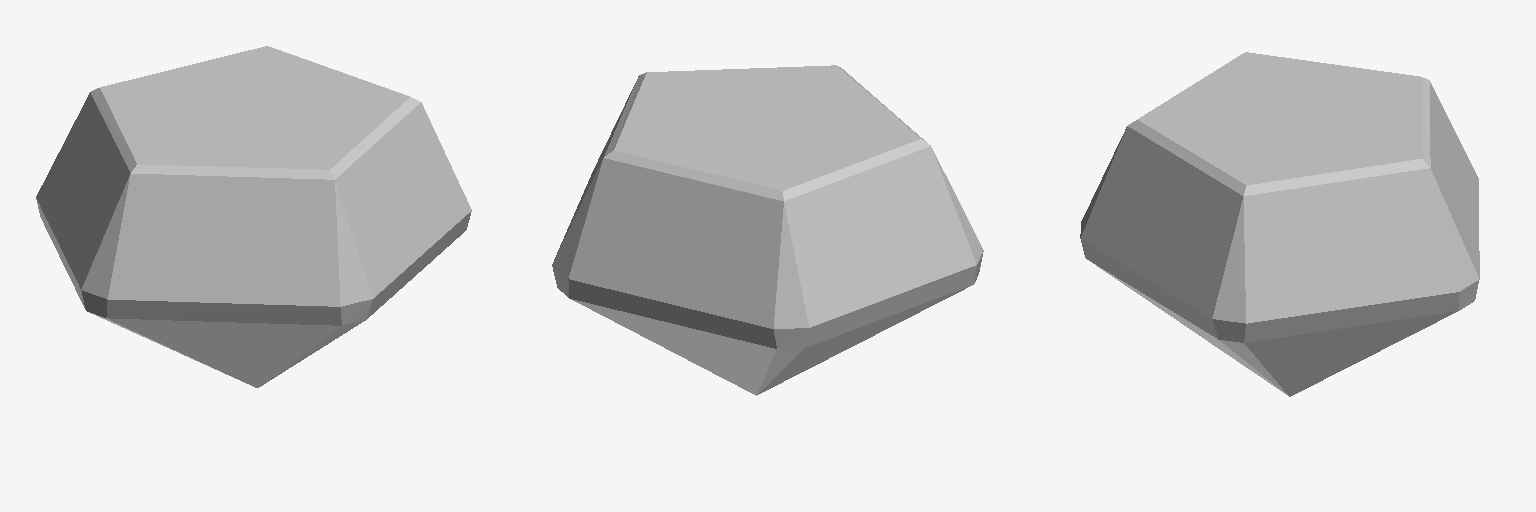
Rendered from Clear Gem.obj.
The picture shows the model from 3 angles: view 1: azimuth 30°, elevation 25°; view 2: azimuth 150°, elevation 25°; view 3: azimuth 270°, elevation 25°; orthographic projection.
Visible parts, largest first — view 1: Clear_Gem; view 2: Clear_Gem; view 3: Clear_Gem.
Boxes of the visible parts, x1=… form: Clear_Gem: x1=36, y1=46, x2=471, y2=387; Clear_Gem: x1=552, y1=65, x2=983, y2=395; Clear_Gem: x1=1080, y1=52, x2=1479, y2=396.
Bounding box in the file's own units: 10.55 × 7.24 × 9.5.